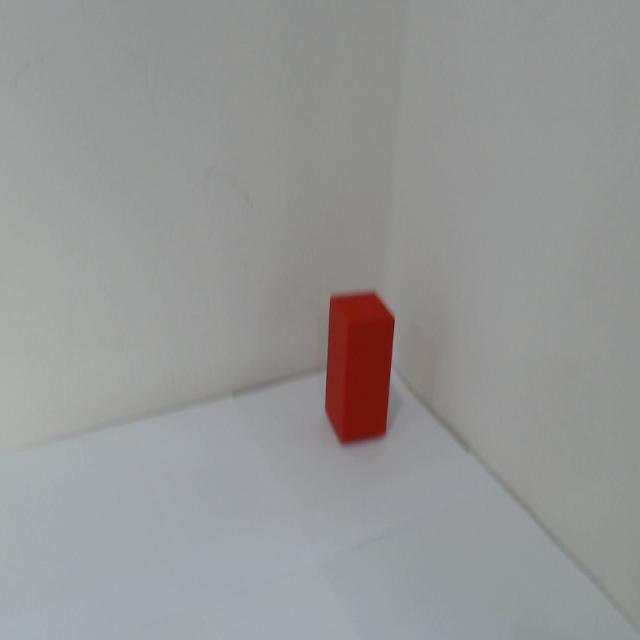cube: (320, 276, 395, 453)
